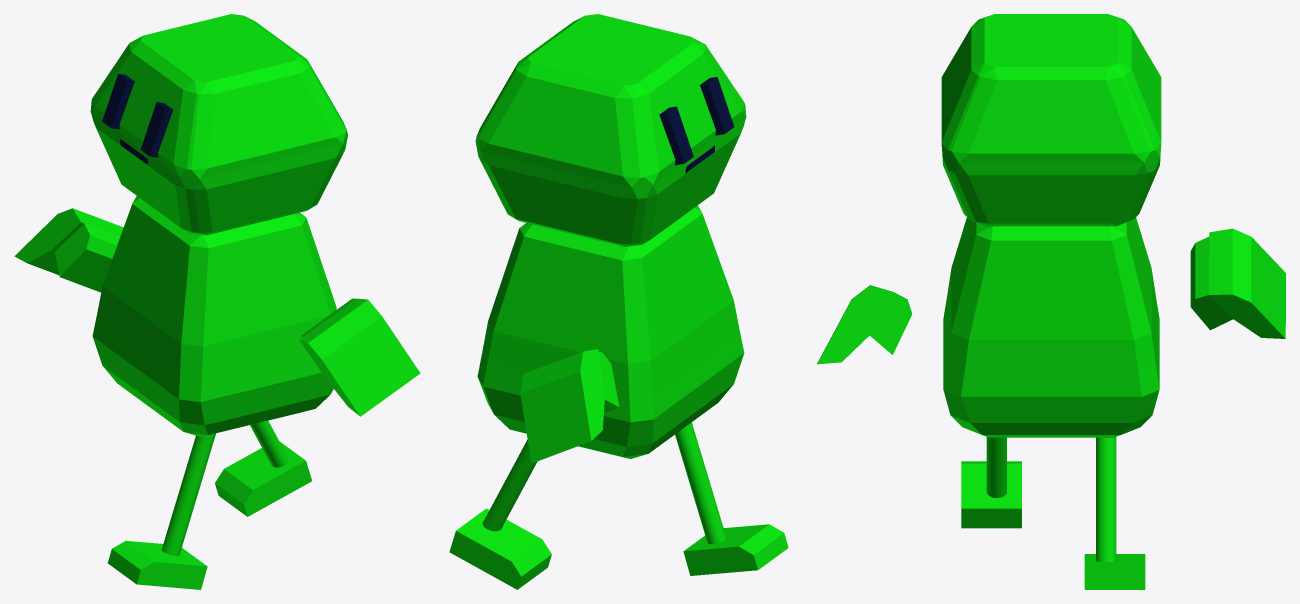
Rendered from player_green_walk1.gltf.
3 renders of one model, left to right at view 1: azimuth 30°, elevation 25°; view 2: azimuth 150°, elevation 25°; view 3: azimuth 270°, elevation 25°, orthographic. The views are drawn at different scales.
Parts seen in each view (by area): view 1: body.019, head.019, hand right.020, hand left.020, foot left.020, foot right.020, leg right.020, Cube.081, Cube.080, leg left.020; view 2: head.019, body.019, hand left.020, foot left.020, foot right.020, leg right.020, leg left.020, Cube.080, Cube.081; view 3: body.019, head.019, hand left.020, hand right.020, foot right.020, leg left.020, foot left.020, leg right.020.
Part boxes in pixels (x1,y1,x2,y2): body.019: [92, 196, 336, 436]; head.019: [90, 14, 347, 235]; hand right.020: [299, 298, 420, 416]; hand left.020: [14, 208, 123, 292]; foot left.020: [215, 441, 311, 516]; foot right.020: [108, 540, 207, 589]; leg right.020: [161, 433, 215, 555]; Cube.081: [102, 73, 134, 129]; Cube.080: [140, 102, 172, 157]; leg left.020: [250, 420, 288, 467]; head.019: [475, 14, 746, 246]; body.019: [477, 205, 744, 458]; hand left.020: [520, 349, 619, 463]; foot left.020: [449, 508, 551, 589]; foot right.020: [683, 524, 788, 575]; leg right.020: [675, 422, 726, 543]; leg left.020: [482, 439, 537, 531]; Cube.080: [700, 77, 734, 135]; Cube.081: [659, 106, 693, 165]; body.019: [943, 217, 1159, 437]; head.019: [941, 14, 1161, 226]; hand left.020: [1190, 228, 1285, 338]; hand right.020: [817, 285, 912, 364]; foot right.020: [961, 461, 1021, 528]; leg left.020: [1096, 437, 1116, 562]; foot left.020: [1084, 554, 1145, 589]; leg right.020: [986, 437, 1006, 497].
Size of the model in its own units: 2.39 by 4.83 by 3.95.
